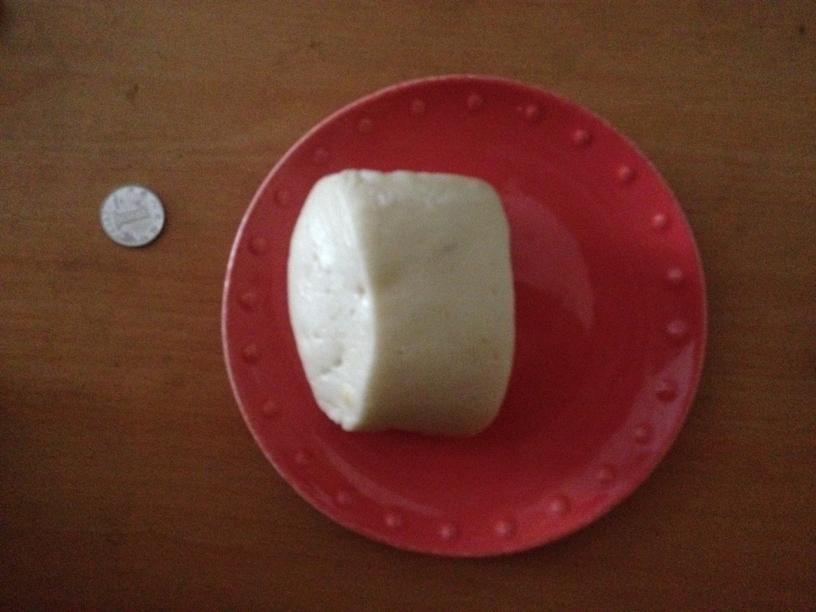bun: (285, 166, 514, 436)
coin: (99, 185, 166, 246)
